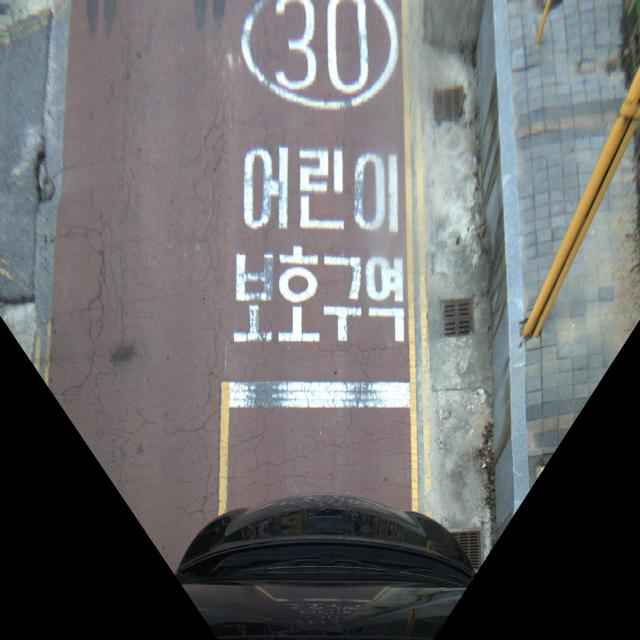30limit: (176, 4, 413, 131)
